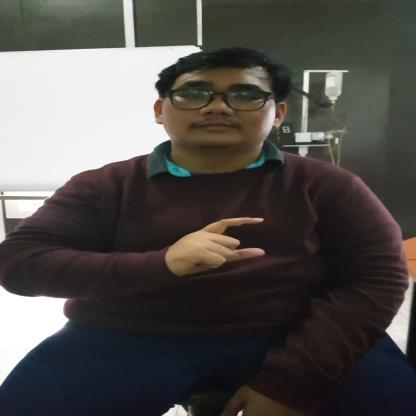C: (170, 216, 268, 274)
